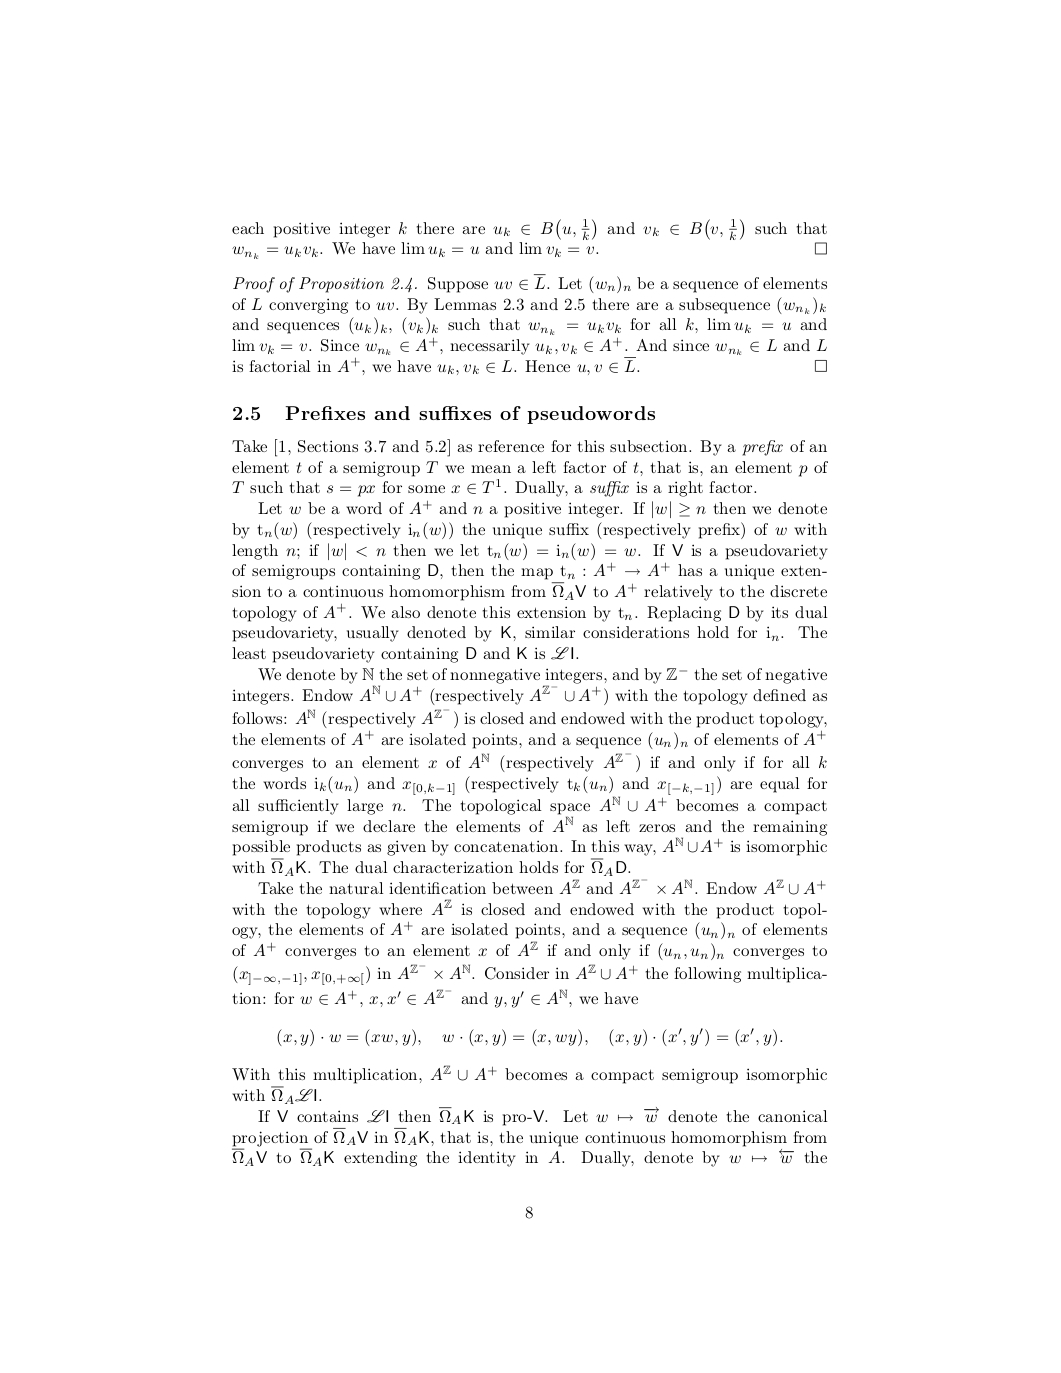formula: (278, 1028, 782, 1046)
